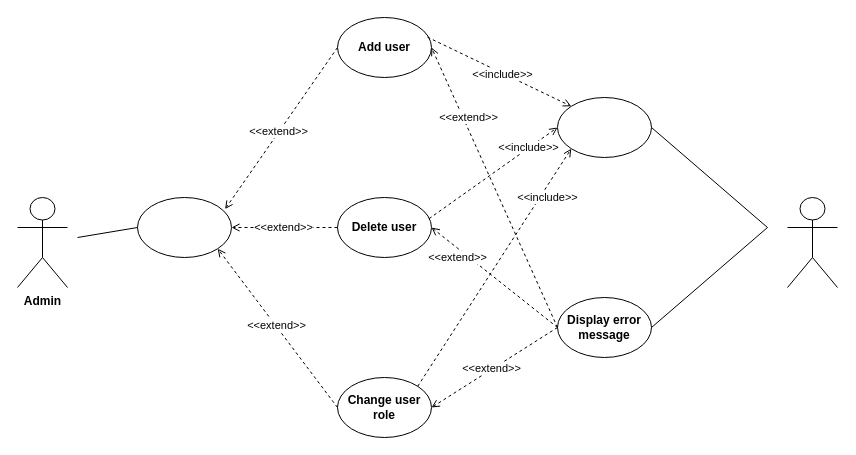
Image size: 856x455. Some labels were removed from this diagram. Here are the shapes that lost their labels. From the top down, the box of each, then its label:
(556, 96, 652, 158): Check user in database
(136, 196, 232, 258): Make database changes
(786, 196, 838, 288): Database
